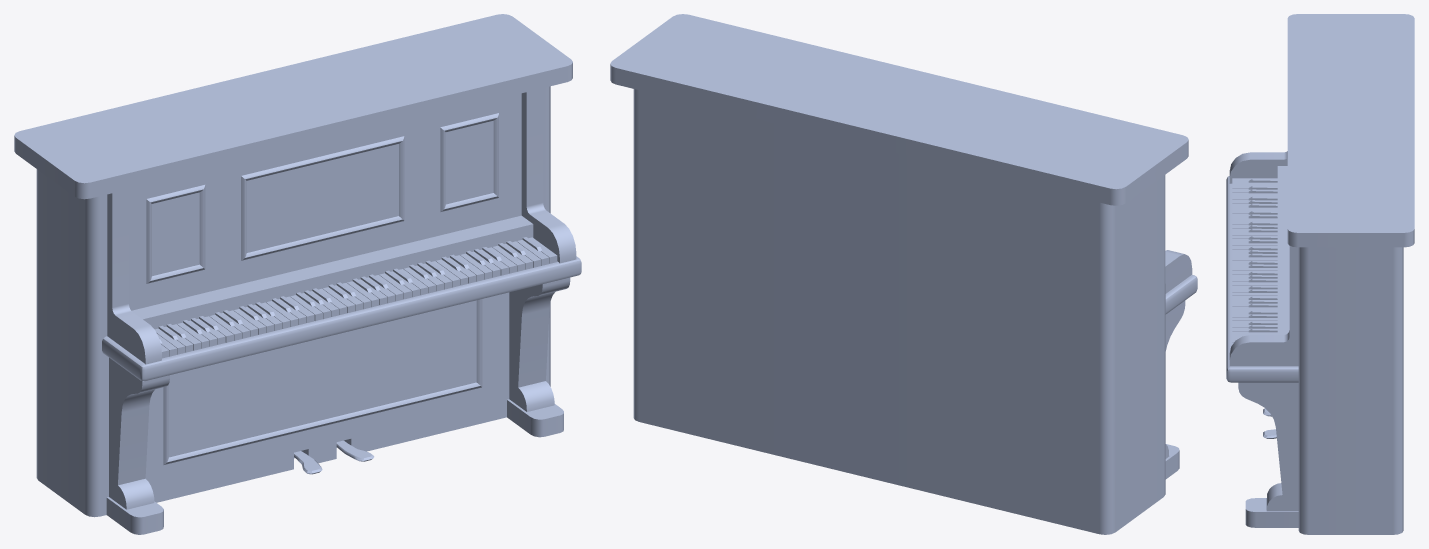
The model's file is Piano 1.fbx.
The picture shows the model from 3 angles, left to right: view 1: azimuth 30°, elevation 25°; view 2: azimuth 150°, elevation 25°; view 3: azimuth 270°, elevation 25°; orthographic projection. The views are drawn at different scales.
Visible parts, largest first — view 1: Piano; view 2: Piano; view 3: Piano.
Boxes of the visible parts, bbox=[...] form: Piano: bbox=[14, 14, 581, 534]; Piano: bbox=[610, 14, 1197, 534]; Piano: bbox=[1226, 14, 1414, 534].
Bounding box in the file's own units: 3.5 × 2.31 × 1.27.
